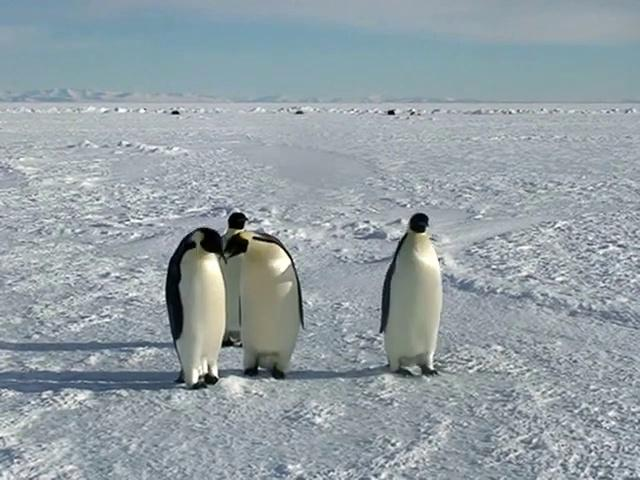animal: (381, 214, 444, 376)
